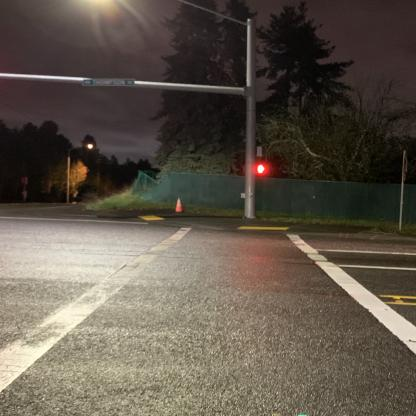Don-t Walk: (254, 162, 270, 176)
